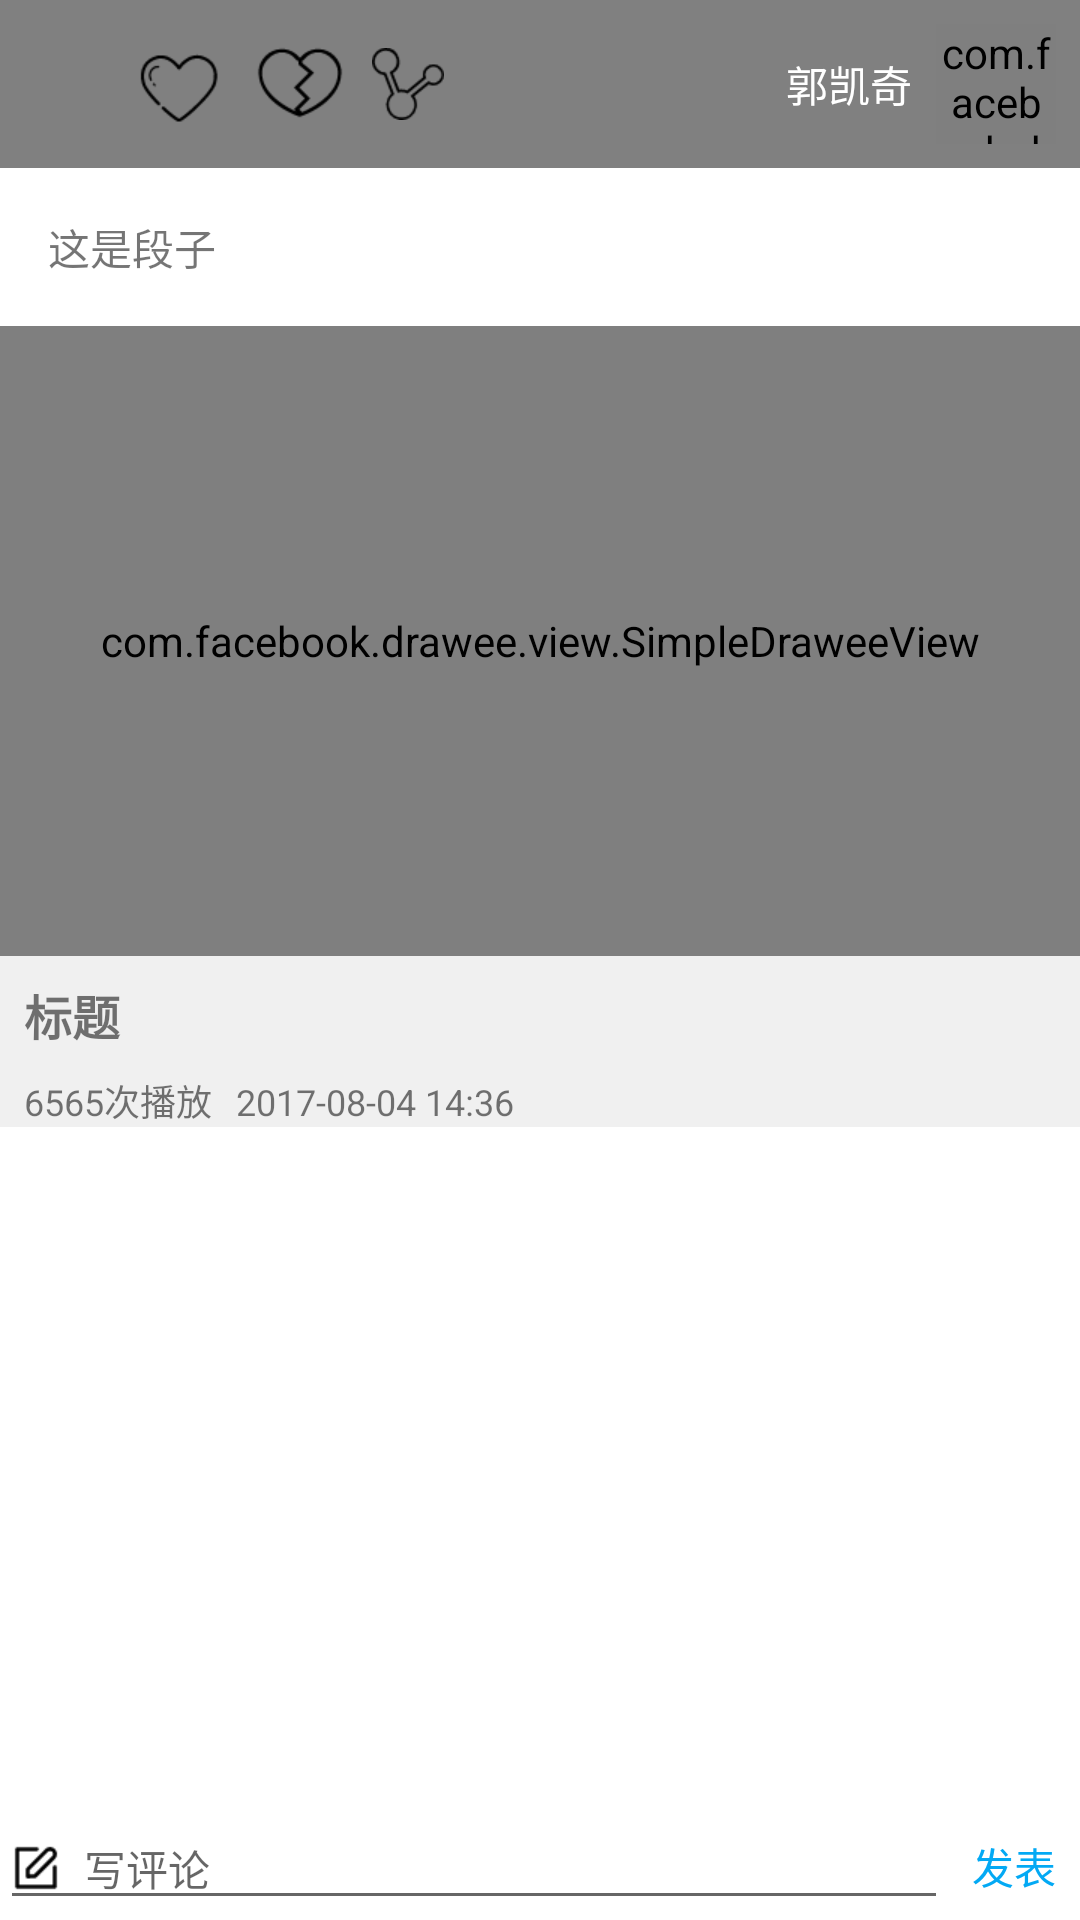

Icon bounding boxes for this 1080×1920 phone screenshot, format (x1, y1, x2, y2):
share: (372, 48, 444, 120)
